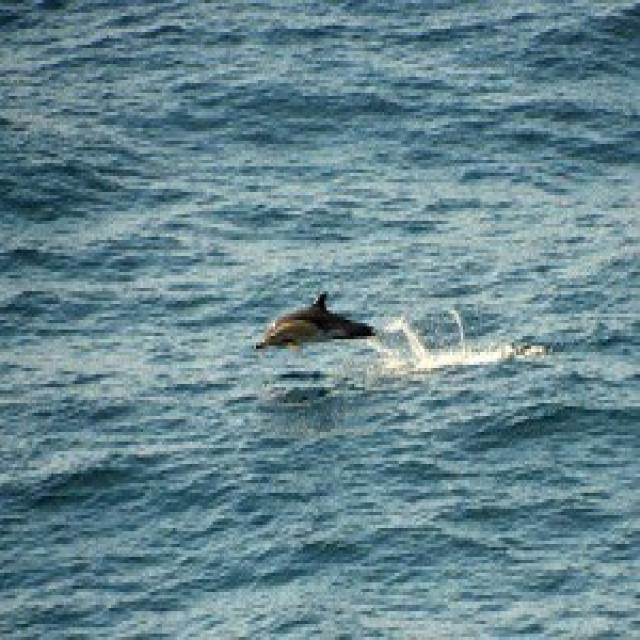Dolphin: (252, 283, 382, 358)
